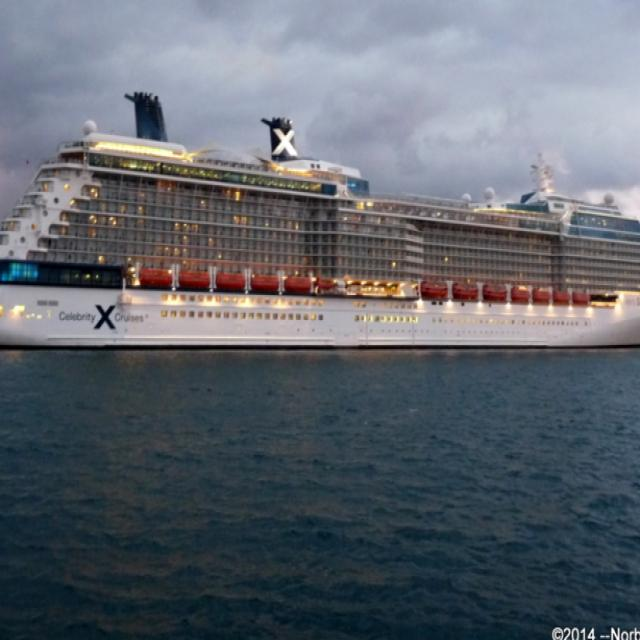cruises: (1, 87, 640, 366)
